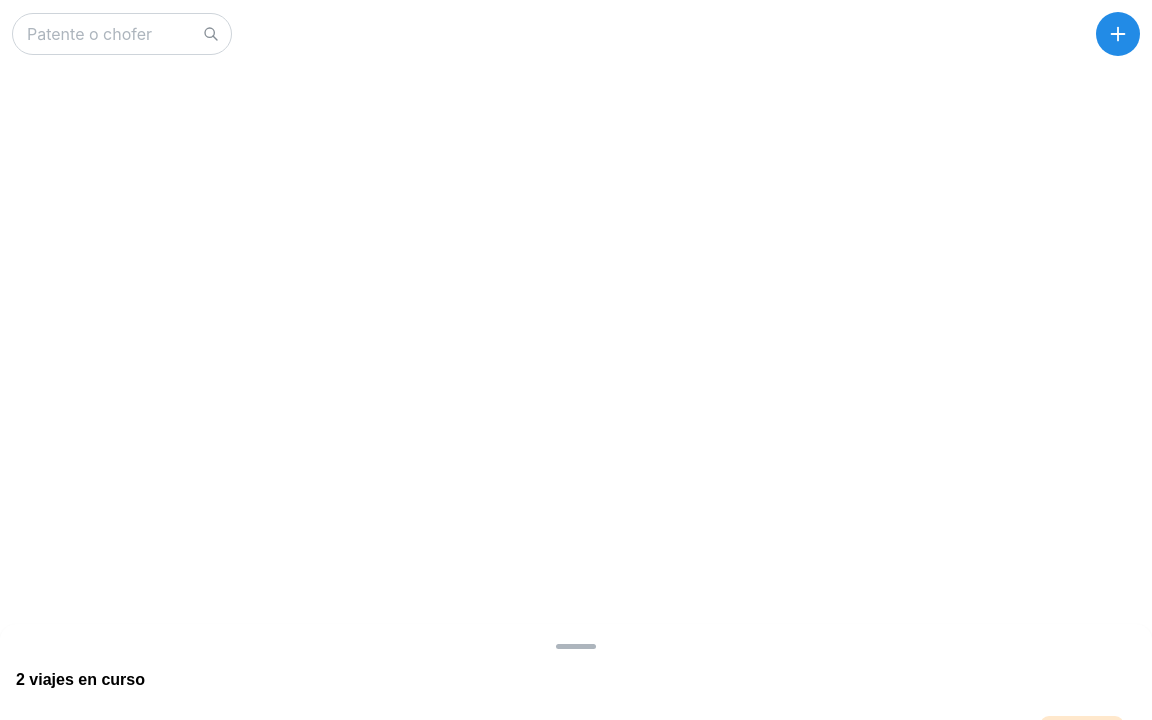
Test: MapaMobile › la hoja arranca asomada y el asa cicla las alturas
What coordinates should you click on to do the following:
click the button with test id "map-bottom-sheet-handle"
I would click on:
 (576, 646)
Its box is [556,644,596,648].
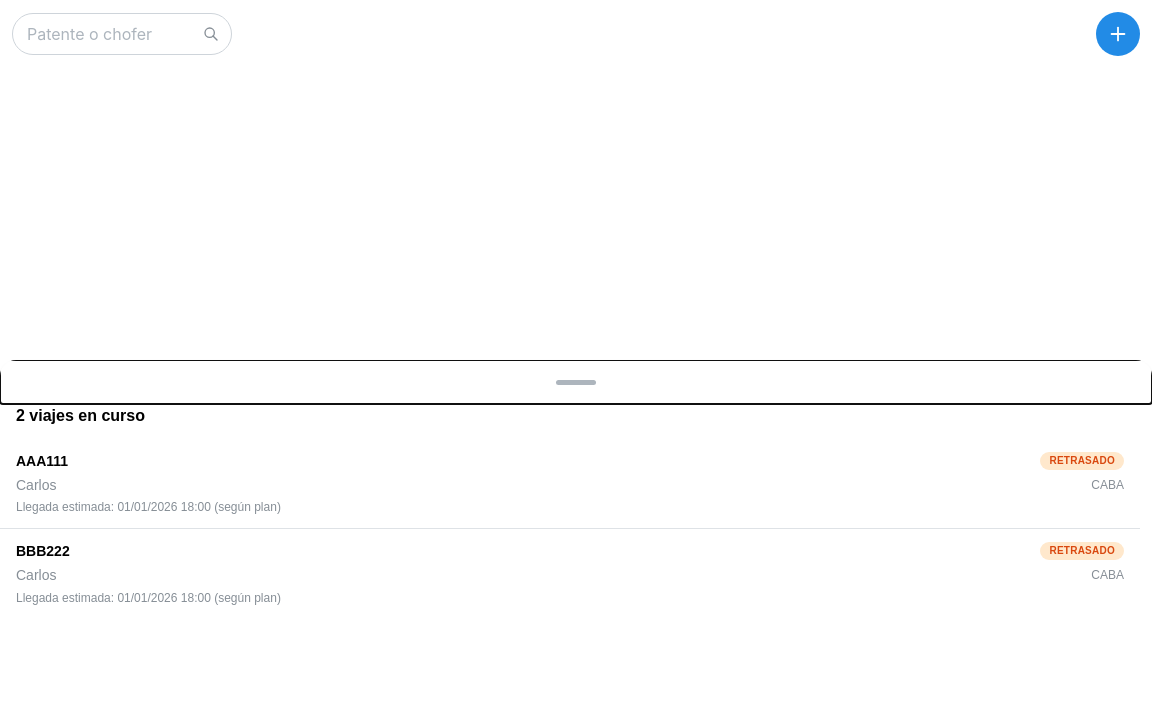
Expected: the element with test id "map-bottom-sheet" has attribute data-snap="half", [0,360,1151,719]
What coordinates should you click on to do the following:
click the button with test id "map-bottom-sheet-handle"
I would click on:
 (576, 382)
Its box is [556,380,596,384].
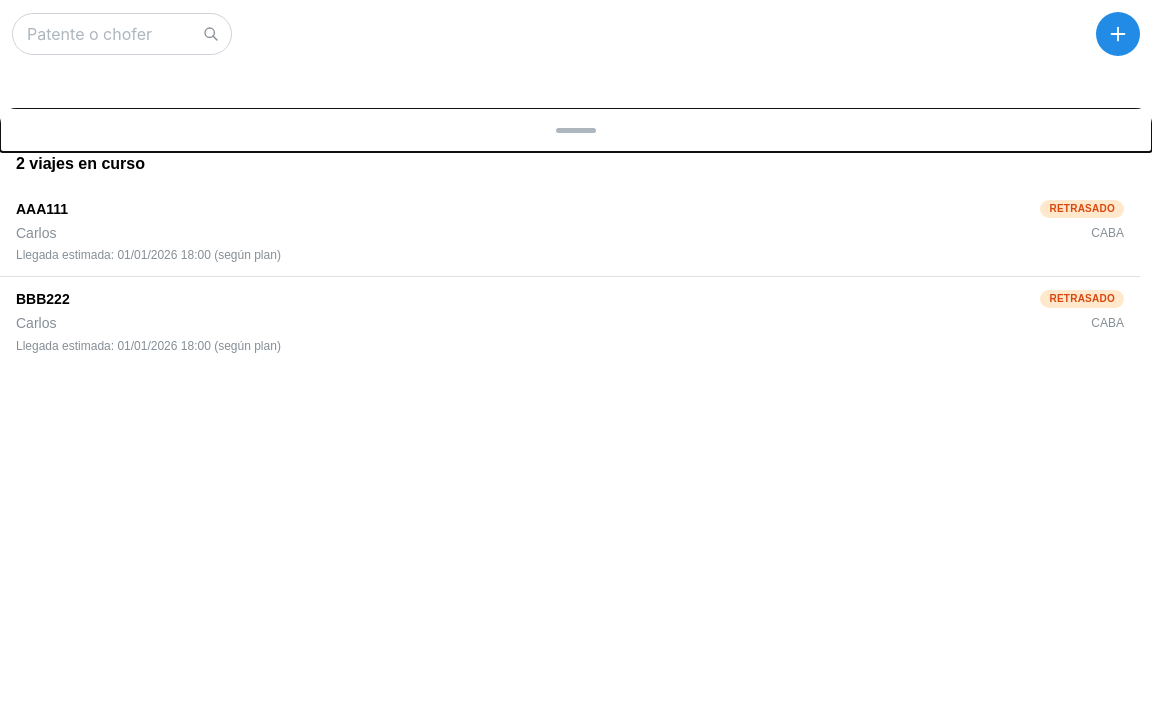
Expected: the element with test id "map-bottom-sheet" has attribute data-snap="full"
What coordinates should you click on to do the following:
click the button with test id "map-bottom-sheet-handle"
I would click on:
 (576, 130)
Its box is [556,128,596,132].
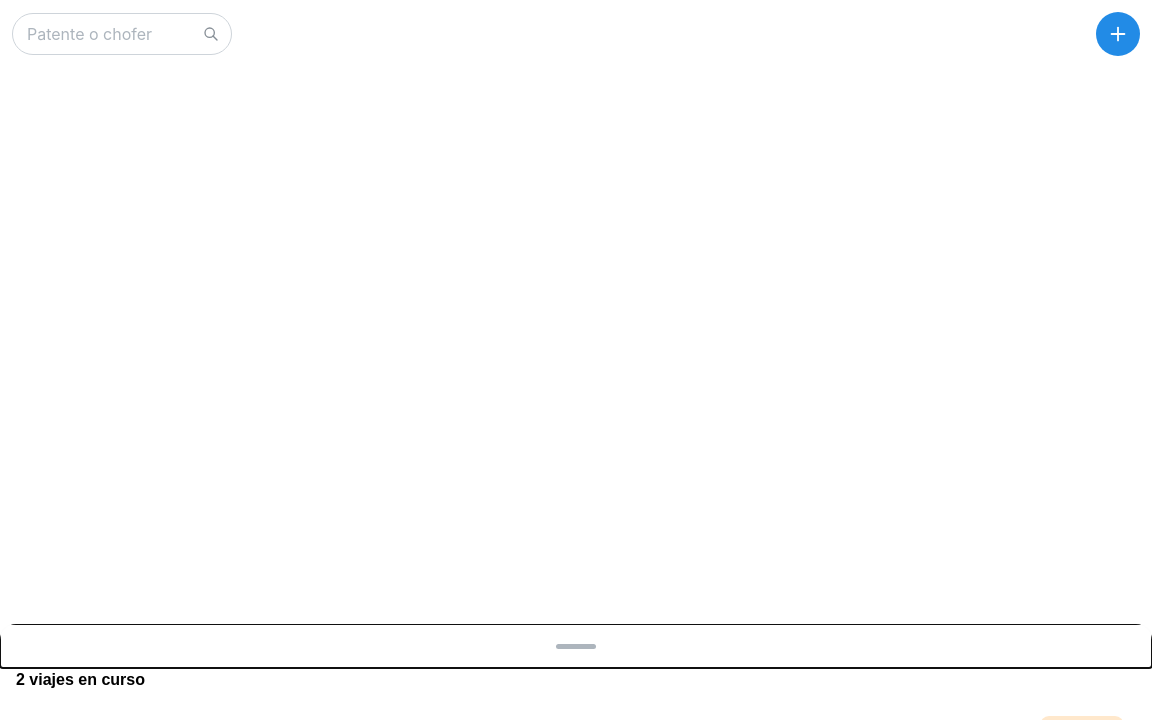
Expected: the element with test id "map-bottom-sheet" has attribute data-snap="peek", [0,624,1151,719]
